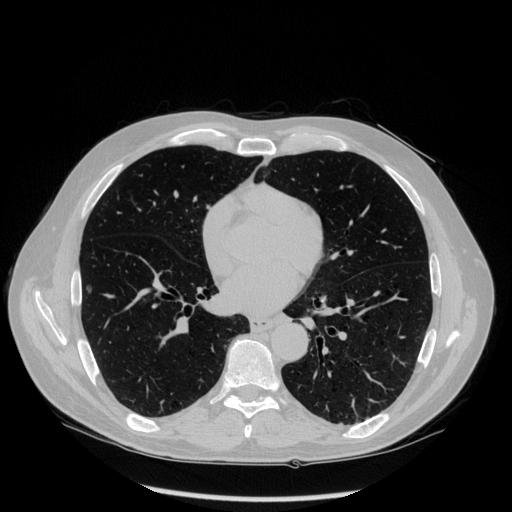nodule: (83, 283, 95, 295)
